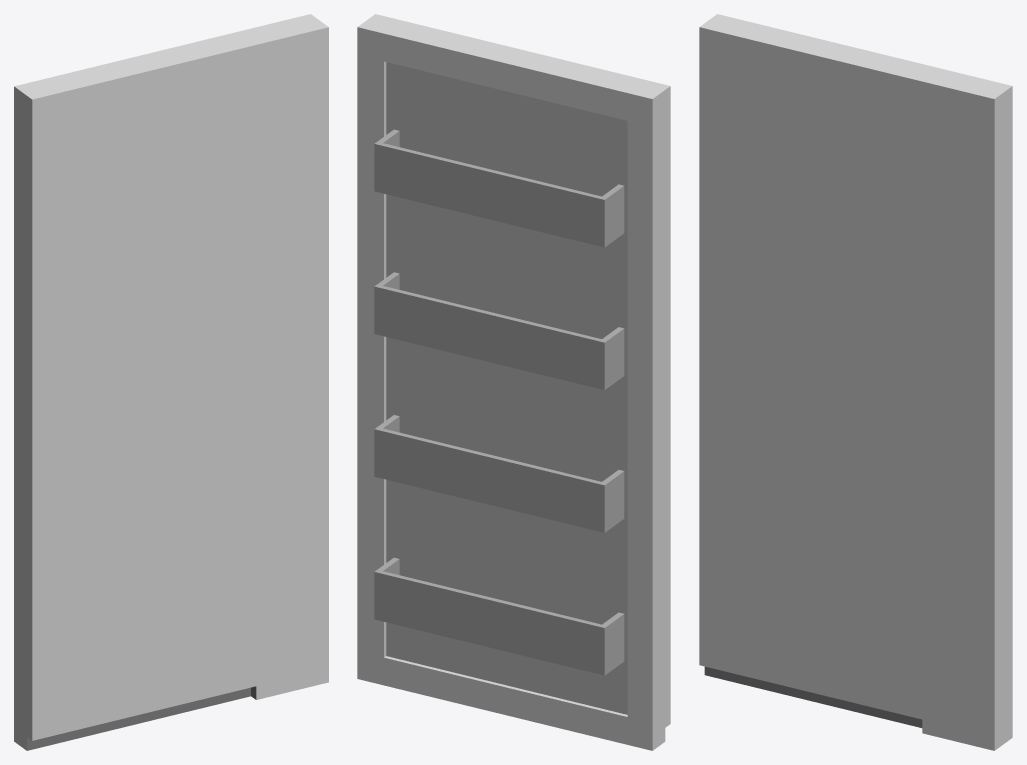
Rendered from Refrigerator3_C1_07.fbx.
The picture shows the model from 3 angles, left to right: view 1: azimuth 30°, elevation 25°; view 2: azimuth 150°, elevation 25°; view 3: azimuth 330°, elevation 25°; orthographic projection.
Visible parts, largest first — view 1: Refrigerator3_C1_07; view 2: Refrigerator3_C1_07; view 3: Refrigerator3_C1_07.
Part boxes in pixels (x1,y1,x2,y2): Refrigerator3_C1_07: [14, 14, 328, 750]; Refrigerator3_C1_07: [357, 14, 670, 750]; Refrigerator3_C1_07: [699, 14, 1012, 750].
Size of the model in its own units: 47.38 by 100 by 9.83.
